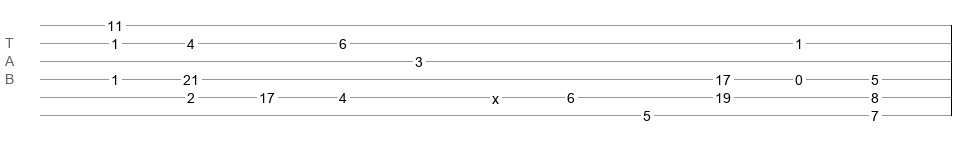0: (795, 72, 803, 82)
1: (111, 72, 119, 82), (111, 36, 119, 46), (795, 36, 803, 46)
11: (107, 18, 123, 28)
17: (259, 90, 275, 100), (715, 72, 731, 82)
19: (715, 90, 731, 100)
2: (187, 90, 195, 100)
21: (183, 72, 199, 82)
3: (415, 54, 423, 64)
4: (187, 36, 195, 46), (339, 90, 347, 100)
5: (643, 108, 651, 118), (871, 72, 879, 82)
6: (339, 36, 347, 46), (567, 90, 575, 100)
7: (871, 108, 879, 118)
8: (871, 90, 879, 100)
x: (492, 91, 499, 99)
